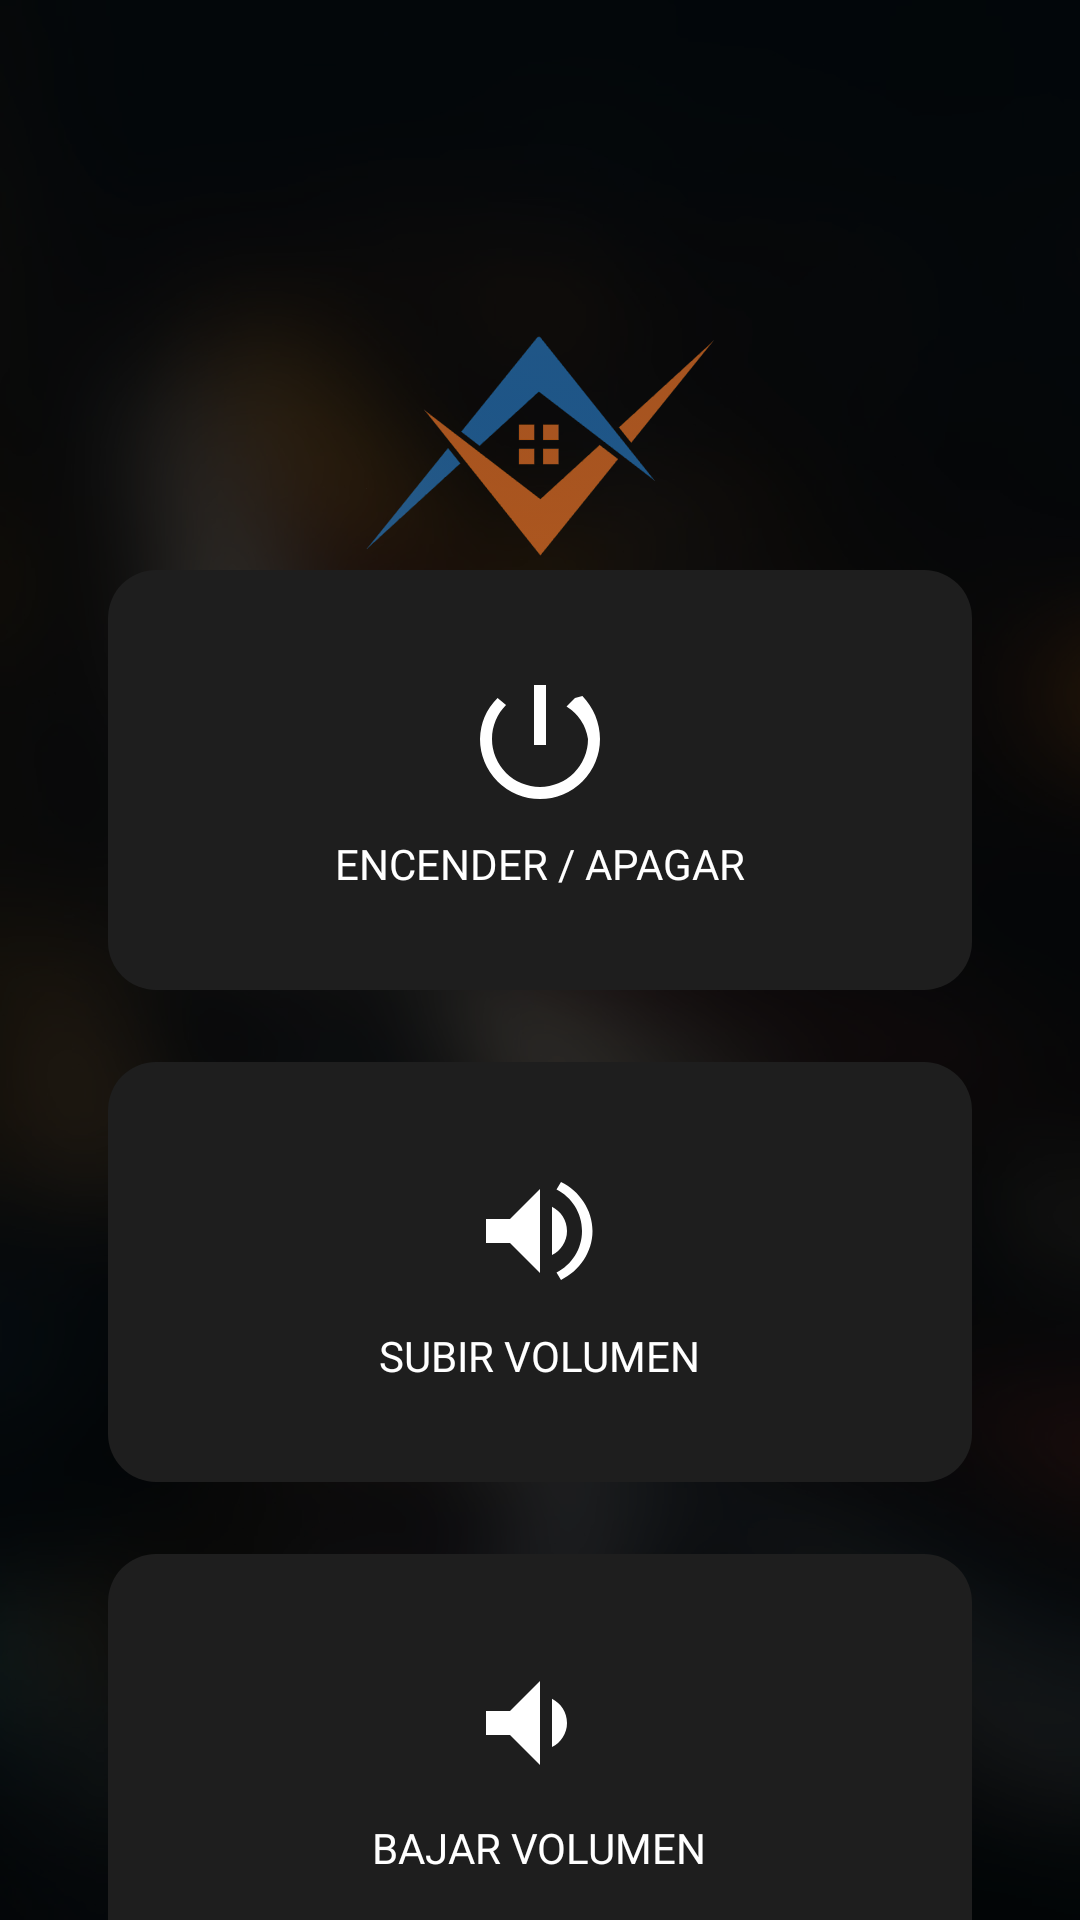

Where icons sit on this 1080×1920 app screen, as {"left": x1, "top": y1, "right": x2, "bottom": y2}:
power: {"left": 480, "top": 685, "right": 600, "bottom": 799}
volume down: {"left": 486, "top": 1681, "right": 567, "bottom": 1765}
volume up: {"left": 486, "top": 1182, "right": 593, "bottom": 1280}
